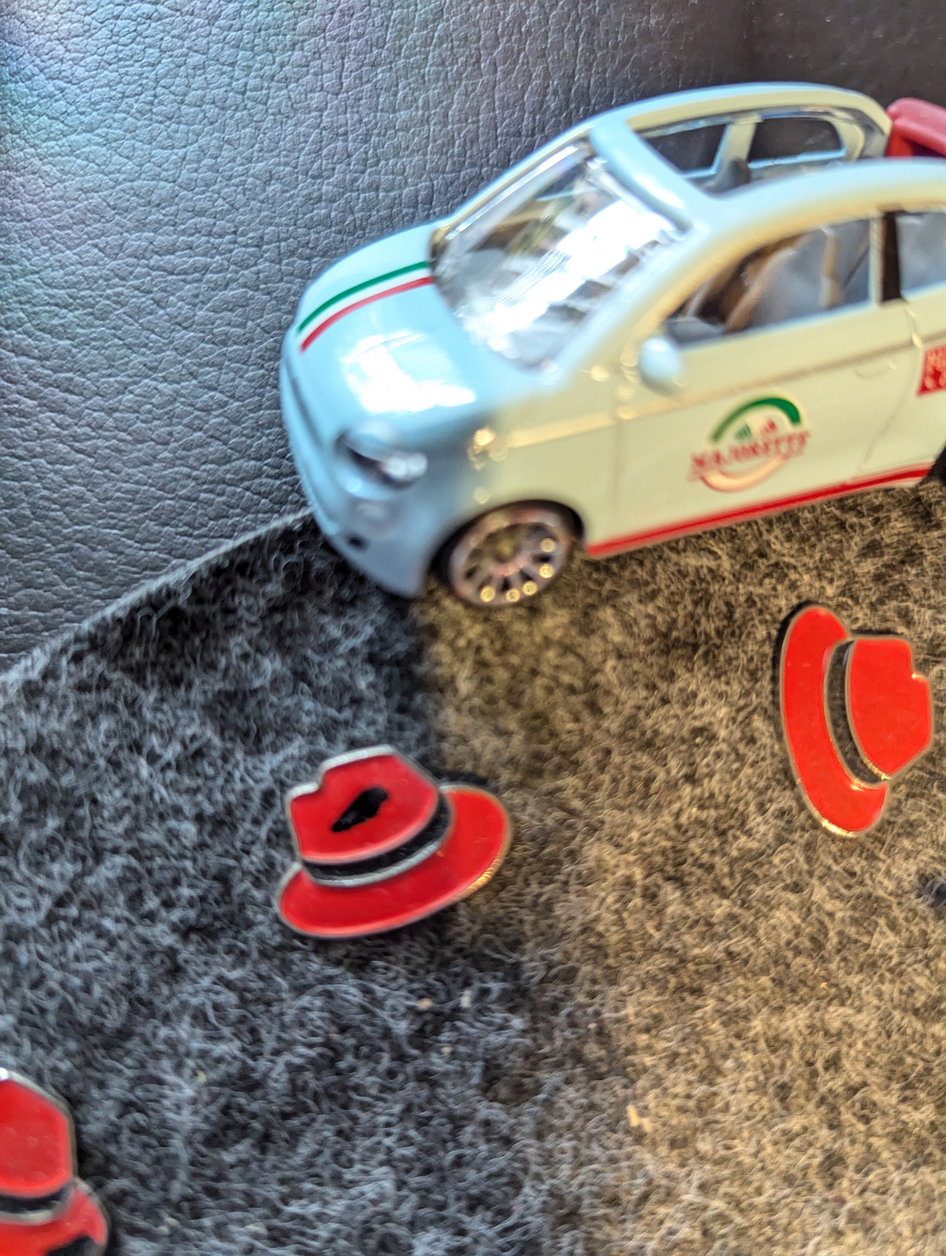Car: (224, 56, 946, 626)
Red-Hat: (257, 716, 552, 972), (765, 581, 943, 882)
Scratch: (316, 773, 407, 847)
